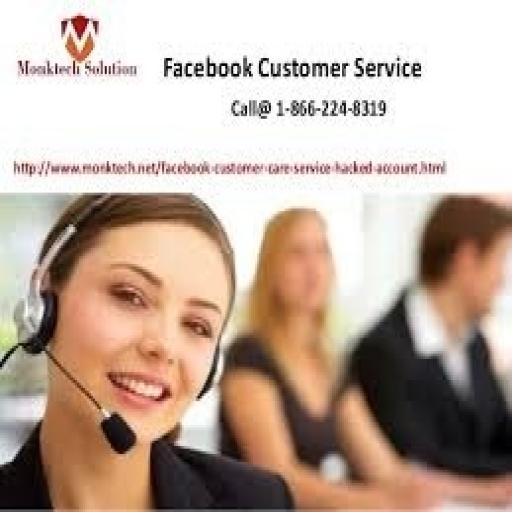calling: (0, 190, 297, 509), (332, 190, 510, 509)
